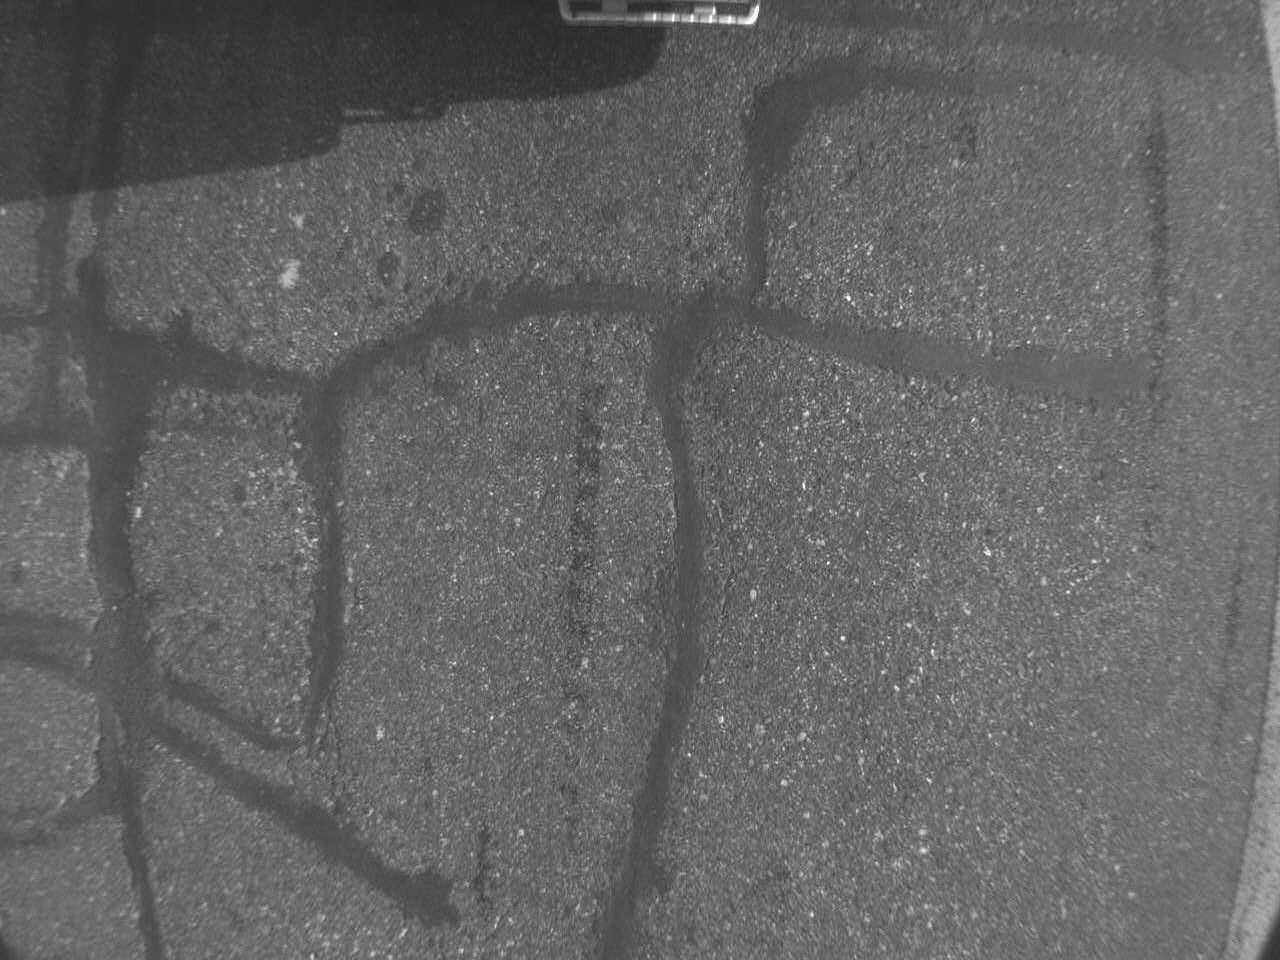sealed: (3, 304, 252, 834)
